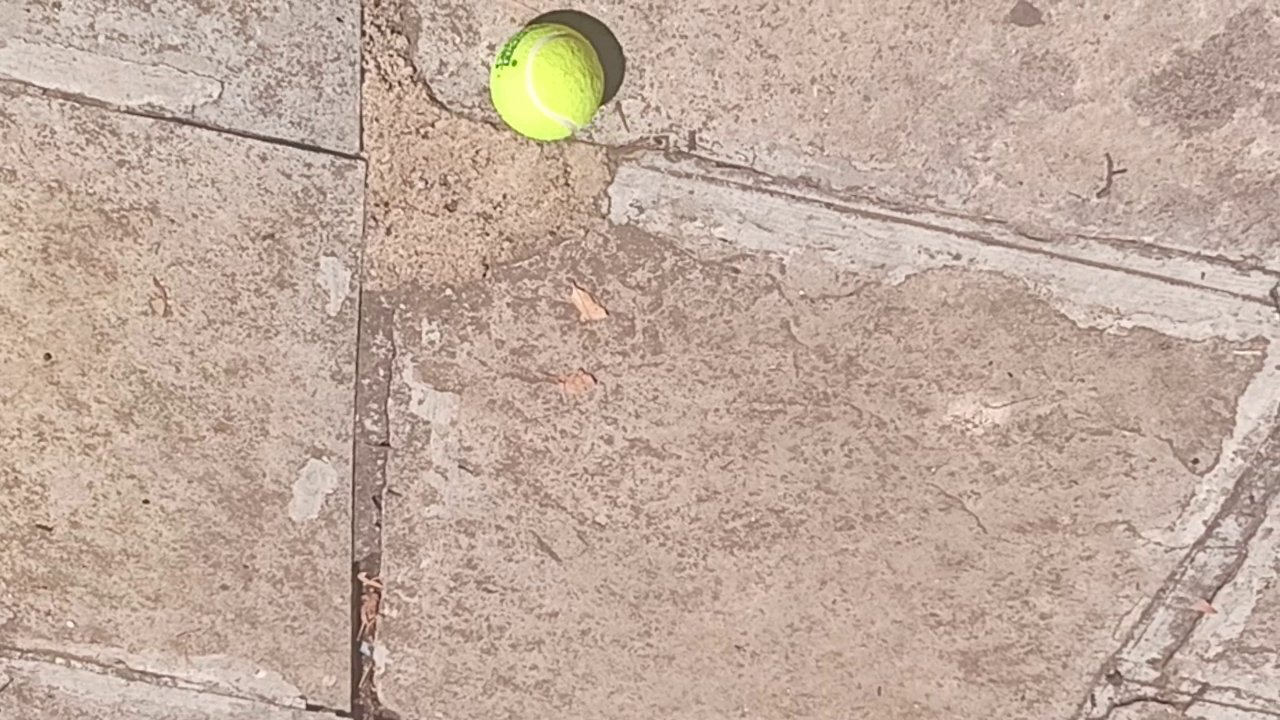Tennis-Ball: (489, 22, 606, 142)
